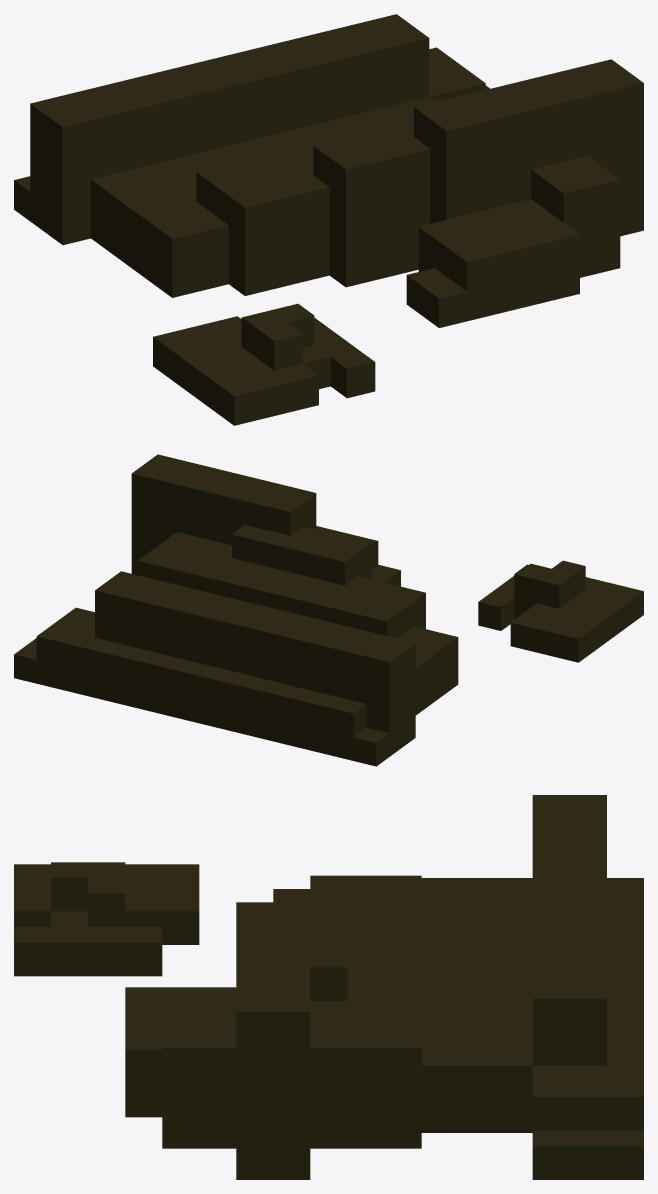
Rendered from rock3.obj.
3 views of the same model, one above another, from view 1: azimuth 30°, elevation 25°; view 2: azimuth 150°, elevation 25°; view 3: azimuth 270°, elevation 25° (orthographic). The views are drawn at different scales.
Bounding box in the file's own units: 1.8 × 0.5 × 1.7.
